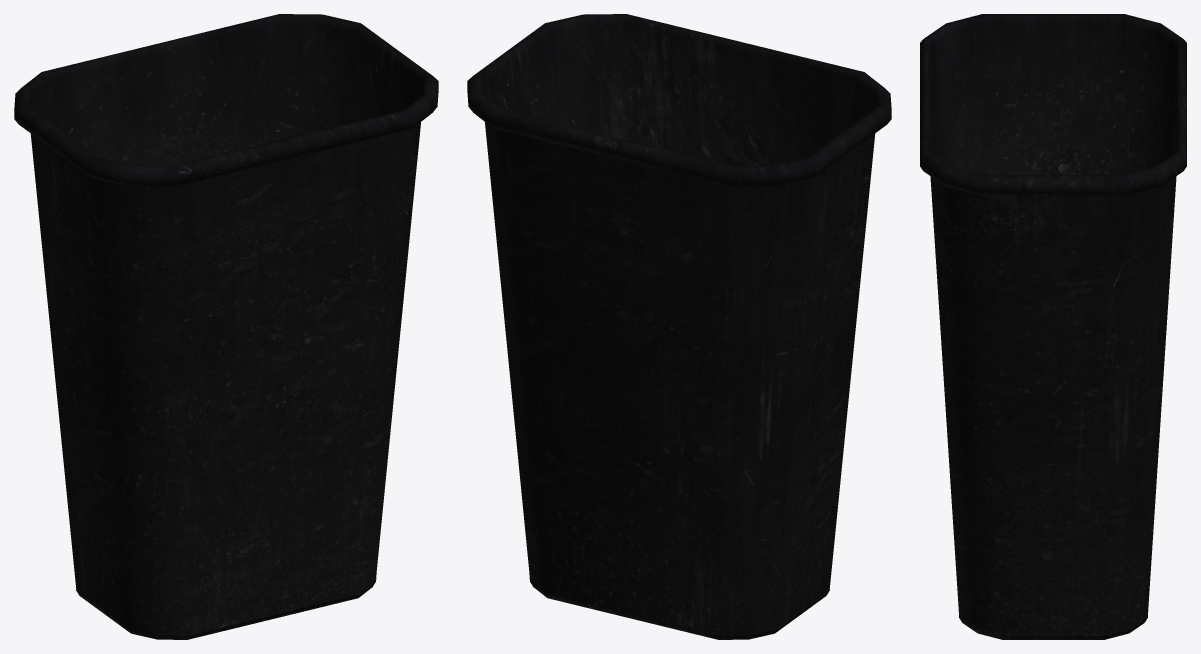
Rendered from Garbage Bin.fbx.
3 renders of one model, left to right at view 1: azimuth 30°, elevation 25°; view 2: azimuth 150°, elevation 25°; view 3: azimuth 270°, elevation 25°, orthographic.
Visible parts, largest first — view 1: Garbage Bin; view 2: Garbage Bin; view 3: Garbage Bin.
Part boxes in pixels (box(x1,y1,x2,y2)): Garbage Bin: box(14, 14, 438, 639); Garbage Bin: box(467, 14, 891, 639); Garbage Bin: box(920, 14, 1186, 639).
Bounding box in the file's own units: 283 × 422 × 568.
